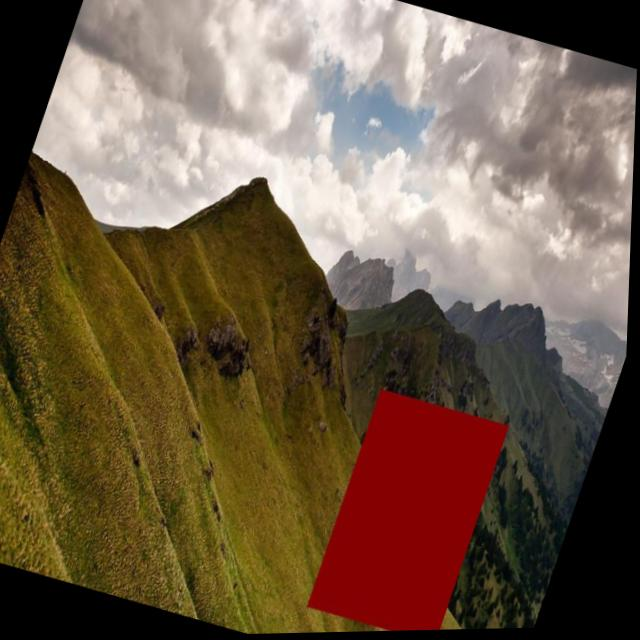RedSquare: (304, 376, 525, 634)
